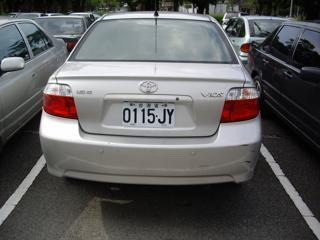plate: (120, 100, 176, 129)
